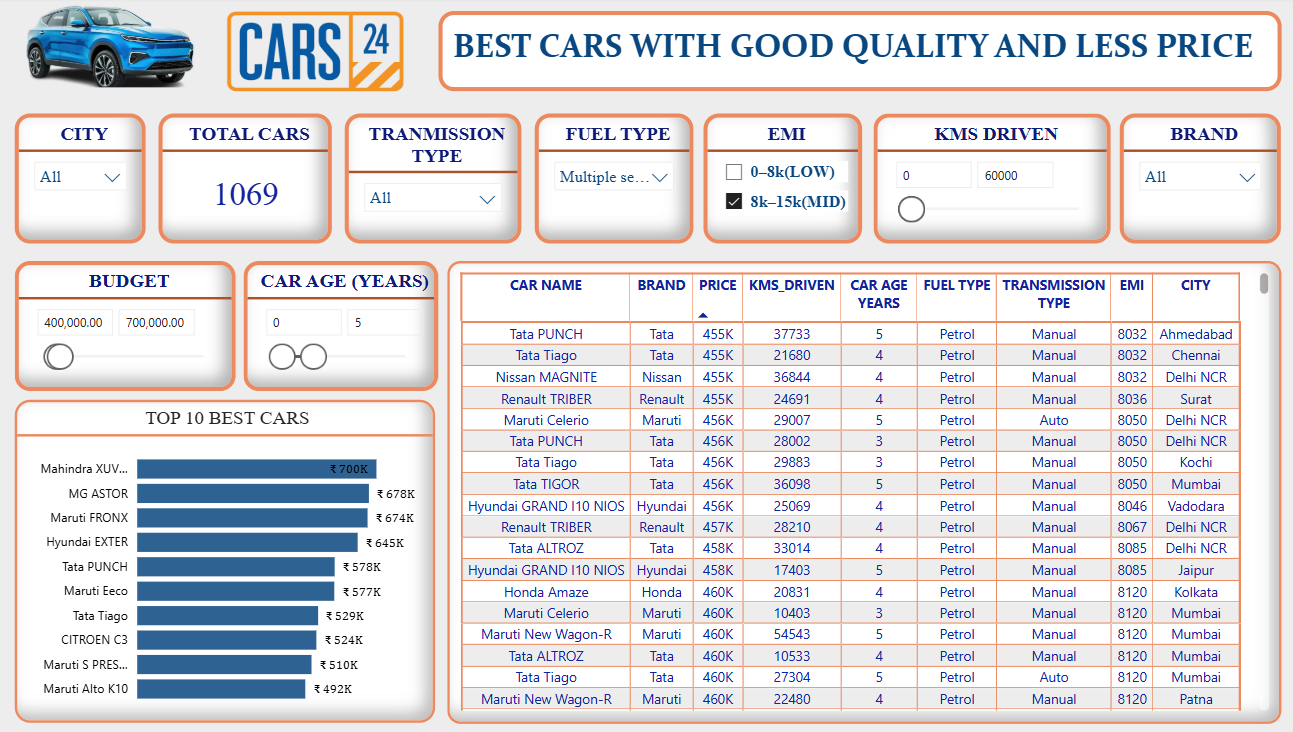

The dashboard page shown, as its layout file describes it:
{"tool":"powerbi","page":{"name":"Page 4","canvas":[1280,720],"ordinal":3},"visuals":[{"type":"image","box":[9.8,8.6,216.4,80.7],"z":0},{"type":"image","box":[205.4,8.6,223.8,91.7],"z":1000},{"type":"textbox","box":[437.5,15,825,78.8],"z":2000},{"type":"tableEx","fields":{"Values":["cars24_all_cities (2).car_name","cars24_all_cities (2).brand","Sum(cars24_all_cities (2).price)","Sum(cars24_all_cities (2).kms_driven)","Sum(cars24_all_cities (2).car_age_years)","cars24_all_cities (2).fuel_type","cars24_all_cities (2).transmission_type","Sum(cars24_all_cities (2).emi)","cars24_all_cities.city"]},"box":[446.2,258.8,816.2,452.5],"z":3000},{"type":"slicer","title":"CITY","fields":{"Values":["cars24_all_cities (2).city"]},"box":[23.2,114.9,128.4,127.2],"z":4000},{"type":"slicer","title":"BRAND","fields":{"Values":["cars24_all_cities (2).brand"]},"box":[1104.2,114.9,157.7,127.2],"z":5000},{"type":"slicer","title":"FUEL TYPE","fields":{"Values":["cars24_all_cities (2).fuel_type"]},"box":[531.9,114.9,155.3,127.2],"z":6000},{"type":"slicer","title":"KMS DRIVEN","fields":{"Values":["cars24_all_cities (2).kms_driven"]},"box":[863.3,114.9,232.3,127.2],"z":7000},{"type":"slicer","title":"CAR AGE (YEARS)","fields":{"Values":["cars24_all_cities (2).car_age_years"]},"box":[247.5,258.8,190,127.5],"z":8000},{"type":"slicer","title":"BUDGET","fields":{"Values":["cars24_all_cities (2).price"]},"box":[23.8,258.8,216.2,127.5],"z":9000},{"type":"slicer","title":"TRANMISSION TYPE","fields":{"Values":["cars24_all_cities (2).transmission_type"]},"box":[346.1,114.9,172.4,127.2],"z":10000},{"type":"card","title":"TOTAL CARS","fields":{"Values":["CountNonNull(cars24_all_cities (2).car_name)"]},"box":[163.9,114.9,170,127.2],"z":11000},{"type":"clusteredBarChart","title":"TOP 10 BEST CARS","fields":{"Category":["cars24_all_cities.car_name"],"Y":["Avg(cars24_all_cities.price)"]},"box":[23.8,395,411.2,316.2],"z":12000},{"type":"slicer","title":"EMI","fields":{"Values":["cars24_all_cities.EMI Range"]},"box":[697,114.9,155.3,127.2],"z":13000}]}

Visuals, with their boxes in screenshot pixels (x1, y1, x2, y2), scaled from the page's 1280x720 canvas onto the 1293x732 screenshot:
image: bbox=[10, 9, 228, 91]
image: bbox=[207, 9, 434, 102]
textbox: bbox=[442, 15, 1275, 95]
tableEx - cars24_all_cities (2).car_name x cars24_all_cities (2).brand: bbox=[451, 263, 1275, 723]
"CITY" slicer: bbox=[23, 117, 153, 246]
"BRAND" slicer: bbox=[1115, 117, 1275, 246]
"FUEL TYPE" slicer: bbox=[537, 117, 694, 246]
"KMS DRIVEN" slicer: bbox=[872, 117, 1107, 246]
"CAR AGE (YEARS)" slicer: bbox=[250, 263, 442, 393]
"BUDGET" slicer: bbox=[24, 263, 242, 393]
"TRANMISSION TYPE" slicer: bbox=[350, 117, 524, 246]
"TOTAL CARS" card: bbox=[166, 117, 337, 246]
"TOP 10 BEST CARS" clusteredBarChart: bbox=[24, 402, 439, 723]
"EMI" slicer: bbox=[704, 117, 861, 246]
